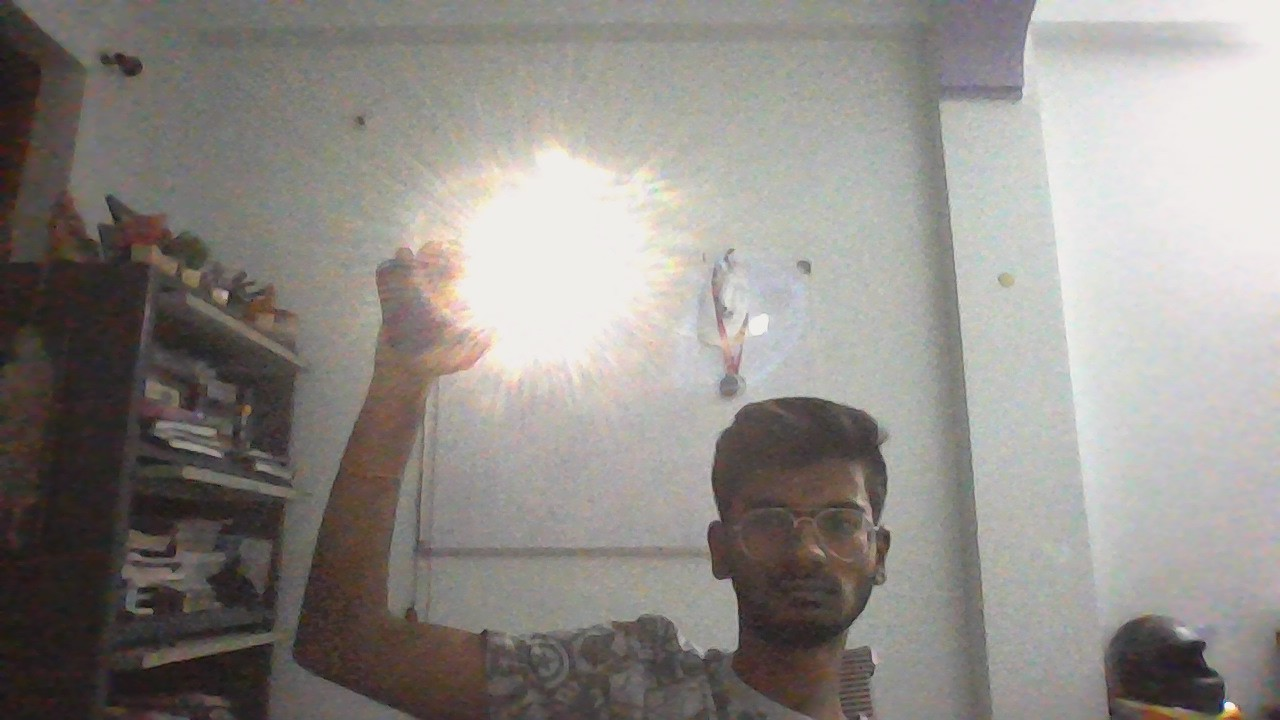Glare: (449, 145, 669, 369)
